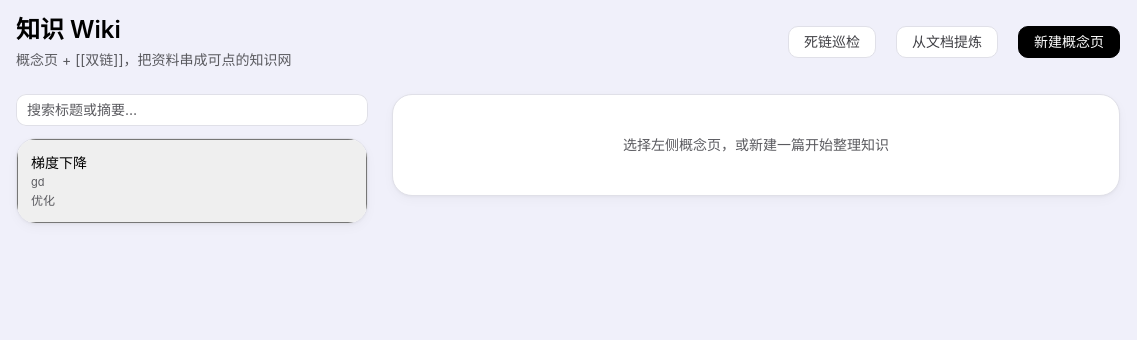
Test: WikiView F1 双链渲染产物 › [ [slug]] 渲染为可点 <a data-slug>，且不残留占位符/转义实体
Click the button with test id "wiki-item-gd" at (59, 162), box [17,139,367,223]
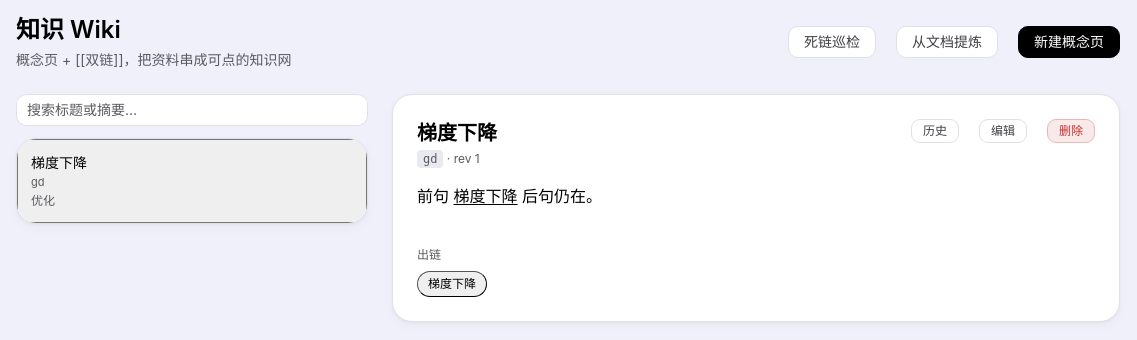
Now the element with class "wiki-body" is shown, box [417,186,602,206]
